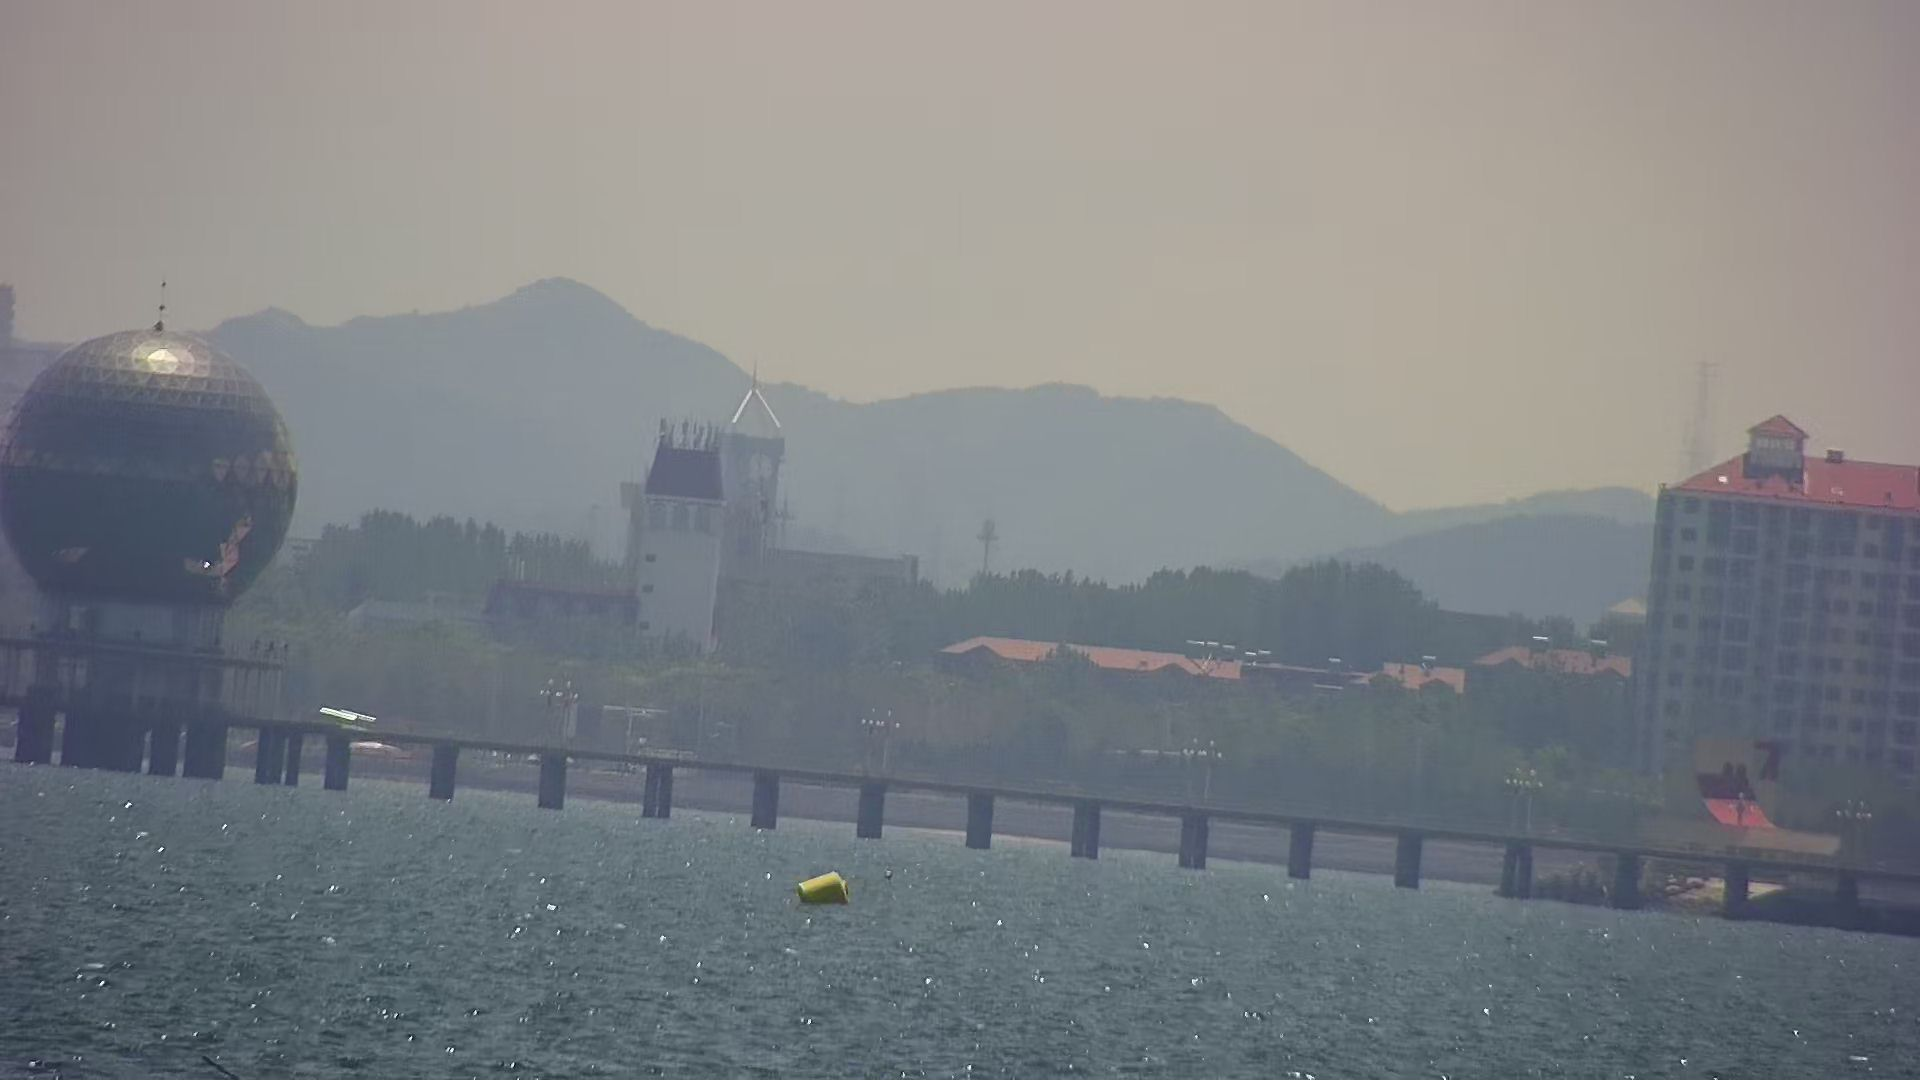bridge: (13, 654, 1917, 952)
rubbish: (779, 862, 861, 916)
